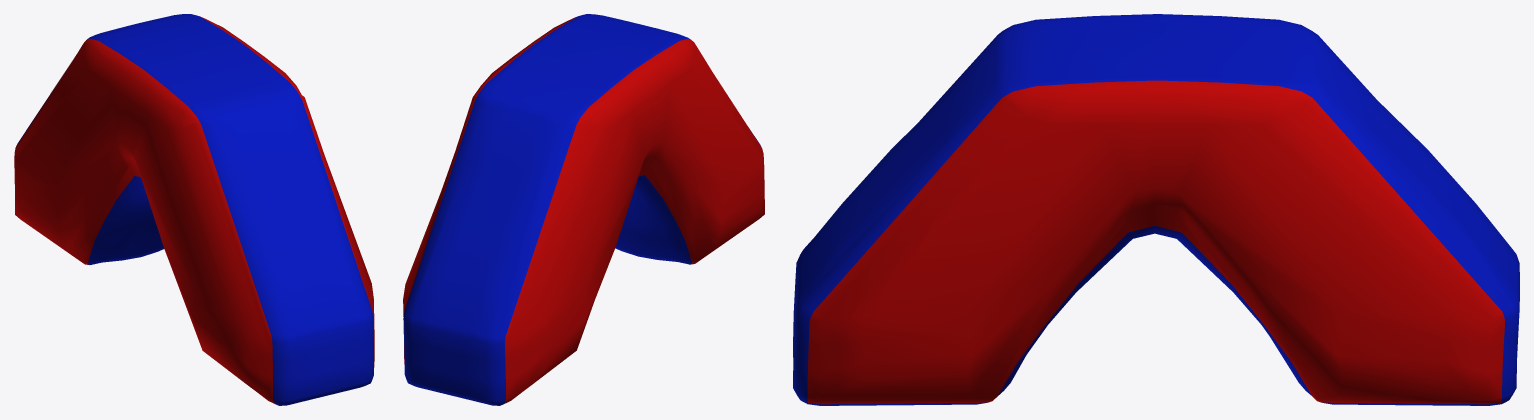
File: Race.glb
The picture shows the model from 3 angles, left to right: view 1: azimuth 30°, elevation 25°; view 2: azimuth 150°, elevation 25°; view 3: azimuth 270°, elevation 25°; orthographic projection. The views are drawn at different scales.
Visible parts, largest first — view 1: Race; view 2: Race; view 3: Race.
Boxes of the visible parts, x1=… form: Race: x1=14, y1=14, x2=374, y2=405; Race: x1=403, y1=14, x2=764, y2=405; Race: x1=793, y1=14, x2=1519, y2=405.
Bounding box in the file's own units: 1.33 × 2.24 × 4.43.
